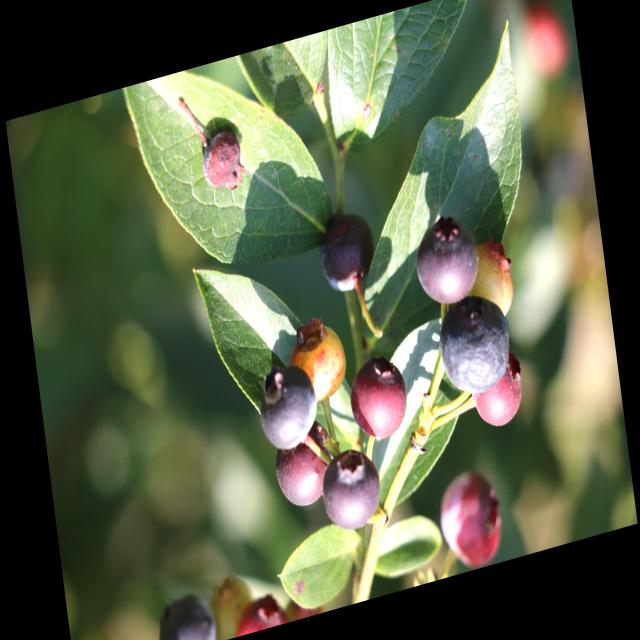blueberry: (424, 284, 518, 409), (261, 412, 335, 522), (408, 216, 484, 321), (254, 357, 325, 461), (317, 442, 388, 538), (311, 206, 379, 300), (140, 580, 221, 640)
blueberry-halfripe: (434, 461, 508, 571), (346, 348, 411, 449), (290, 329, 350, 405), (197, 125, 246, 192)
blueberry-unripe: (469, 239, 516, 322)
